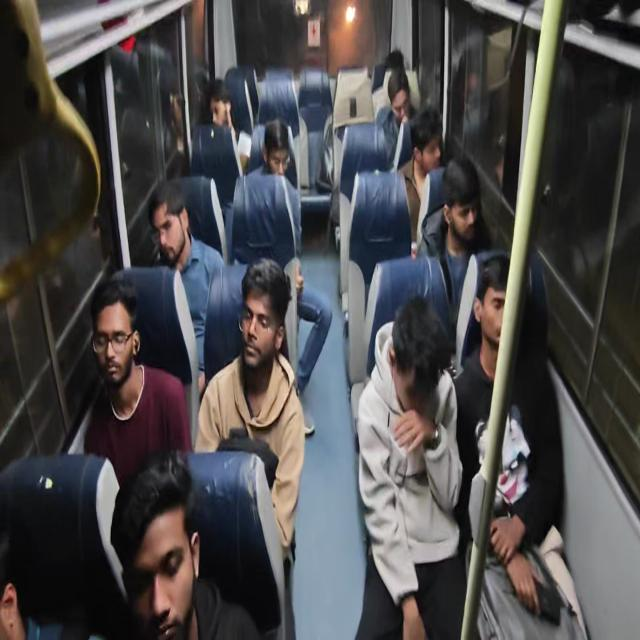person: (74, 53, 583, 638), (453, 253, 588, 638), (194, 257, 306, 637), (355, 295, 466, 638), (231, 118, 332, 435), (109, 450, 261, 639), (0, 451, 128, 638), (82, 277, 193, 487), (147, 178, 226, 391), (416, 155, 492, 321), (397, 105, 444, 252), (202, 78, 250, 175), (377, 66, 414, 165), (205, 78, 234, 129)
